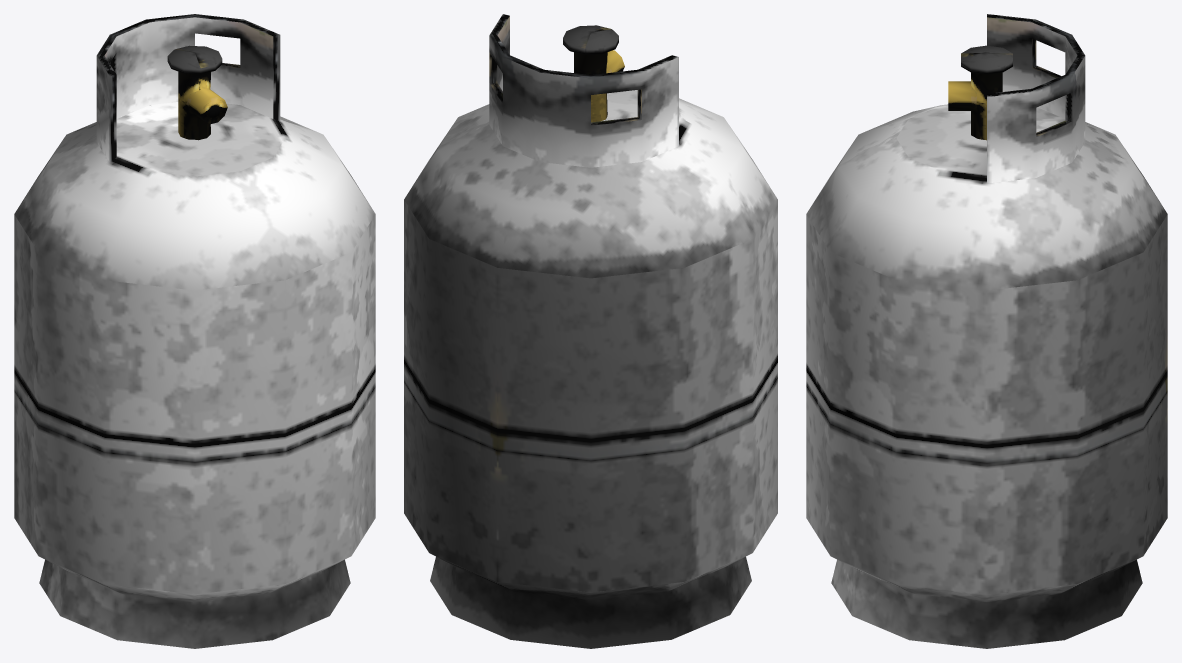
The model's file is PropaneTank.fbx.
The picture shows the model from 3 angles, left to right: view 1: azimuth 30°, elevation 25°; view 2: azimuth 150°, elevation 25°; view 3: azimuth 270°, elevation 25°; orthographic projection. The views are drawn at different scales.
Visible parts, largest first — view 1: polySurface4; view 2: polySurface4; view 3: polySurface4.
Boxes of the visible parts, left/top/right/bottom form: polySurface4: left=14, top=14, right=375, bottom=648; polySurface4: left=404, top=14, right=777, bottom=648; polySurface4: left=806, top=14, right=1167, bottom=648.
Size of the model in its own units: 46.96 by 76.03 by 46.96.
